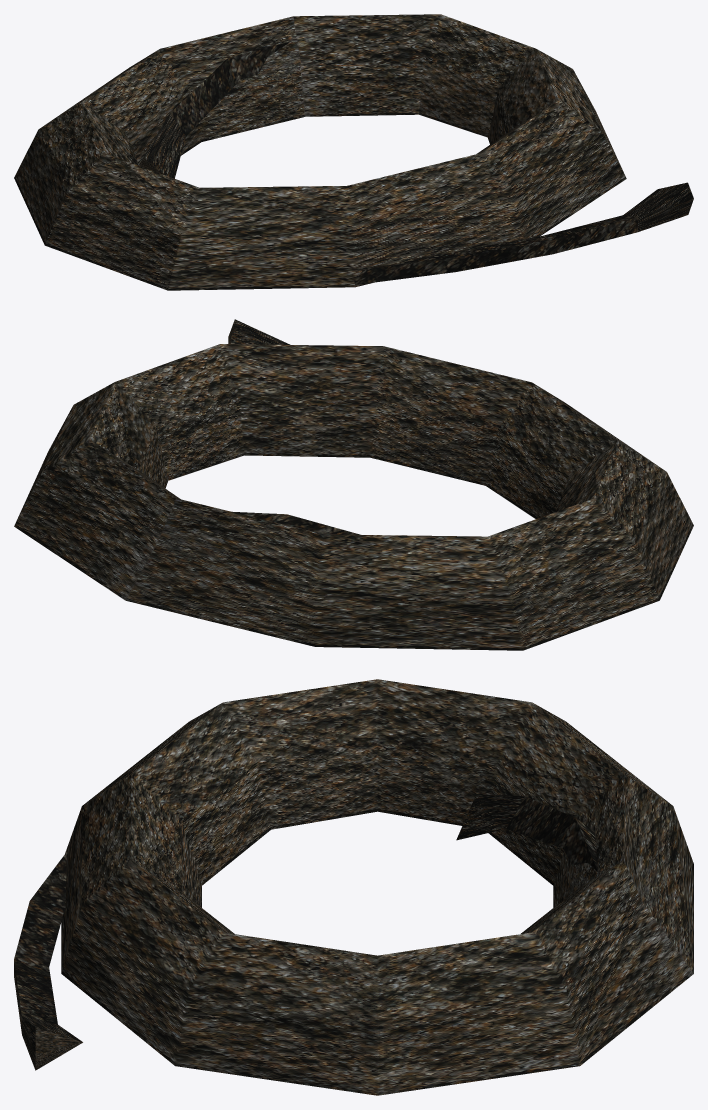
File: mm9_deco_ropecoilcauldron.glb
The picture shows the model from 3 angles, top to bottom: view 1: azimuth 30°, elevation 25°; view 2: azimuth 150°, elevation 25°; view 3: azimuth 270°, elevation 25°; orthographic projection. The views are drawn at different scales.
Visible parts, largest first — view 1: Ropecoilcauldron; view 2: Ropecoilcauldron; view 3: Ropecoilcauldron.
Part boxes in pixels (x1=…): Ropecoilcauldron: x1=14, y1=14, x2=693, y2=290; Ropecoilcauldron: x1=14, y1=319, x2=693, y2=650; Ropecoilcauldron: x1=14, y1=679, x2=693, y2=1095.
Bounding box in the file's own units: 1.02 × 0.137 × 0.8307.
1 material, 1 textured.
